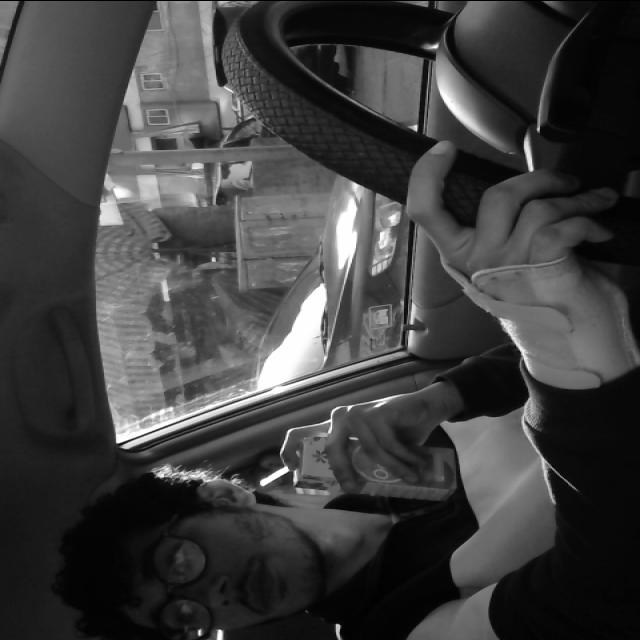drinking: (246, 421, 477, 497)
